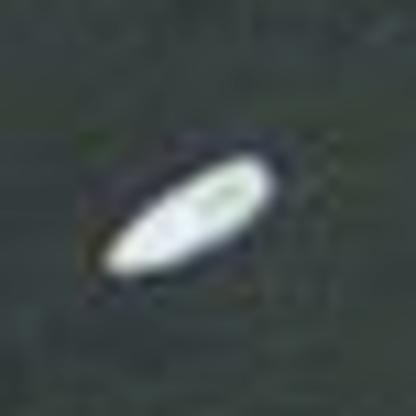ship: (78, 137, 296, 295)
